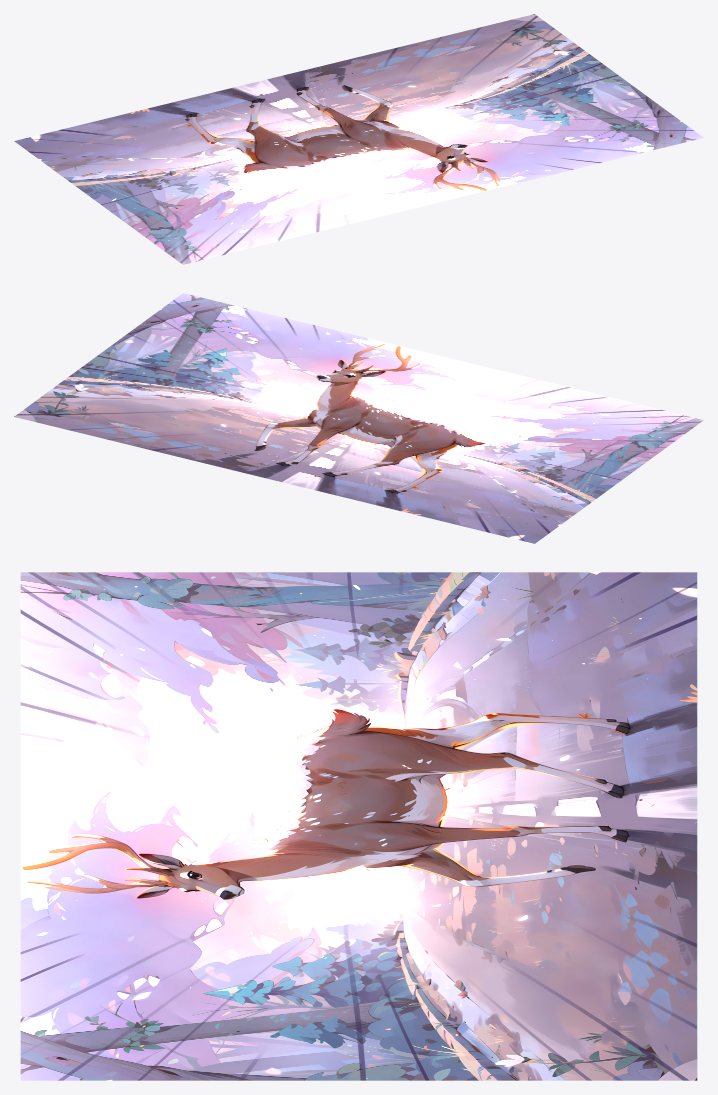
The model's file is cs_deer.glb.
The picture shows the model from 3 angles, top to bottom: view 1: azimuth 30°, elevation 25°; view 2: azimuth 150°, elevation 25°; view 3: azimuth 270°, elevation 25°; orthographic projection. The views are drawn at different scales.
Visible parts, largest first — view 1: 01; view 2: 01; view 3: 01.
Part boxes in pixels (x1,y1,x2,y2): 01: (14, 14, 703, 264); 01: (14, 293, 703, 543); 01: (20, 572, 697, 1080).
Bounding box in the file's own units: 38.4 × 0 × 21.6.
16 materials, 16 textured.
